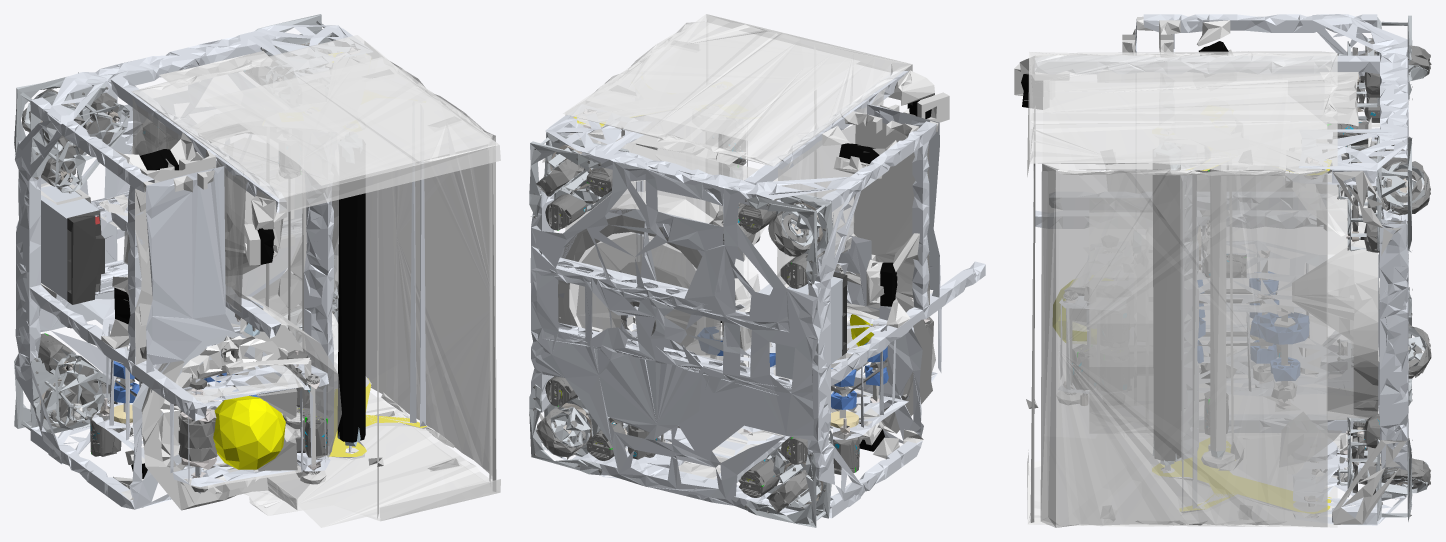
3 renders of one model, left to right at view 1: azimuth 30°, elevation 25°; view 2: azimuth 150°, elevation 25°; view 3: azimuth 270°, elevation 25°, orthographic. The views are drawn at different scales.
Parts seen in each view (by area): view 1: main_mesh, c3_mesh, c1_mesh, c0_mesh, c2_mesh; view 2: main_mesh, c3_mesh, c2_mesh, c0_mesh, c1_mesh; view 3: c3_mesh, main_mesh, c0_mesh, c2_mesh, c1_mesh.
Boxes of the visible parts, left/top/right/bottom form: main_mesh: left=14, top=14, right=500, bottom=521; c3_mesh: left=205, top=42, right=496, bottom=527; c1_mesh: left=148, top=326, right=330, bottom=494; c0_mesh: left=265, top=52, right=427, bottom=460; c2_mesh: left=116, top=113, right=338, bottom=332; main_mesh: left=529, top=14, right=985, bottom=527; c3_mesh: left=565, top=20, right=859, bottom=455; c2_mesh: left=558, top=191, right=760, bottom=428; c0_mesh: left=573, top=106, right=748, bottom=424; c1_mesh: left=831, top=271, right=941, bottom=400; c3_mesh: left=1030, top=81, right=1327, bottom=527; main_mesh: left=1014, top=14, right=1431, bottom=527; c0_mesh: left=1152, top=150, right=1331, bottom=517; c2_mesh: left=1292, top=117, right=1379, bottom=420; c1_mesh: left=1053, top=247, right=1088, bottom=405.
Size of the model in its own units: 0.6832 by 0.7286 by 0.7603.
